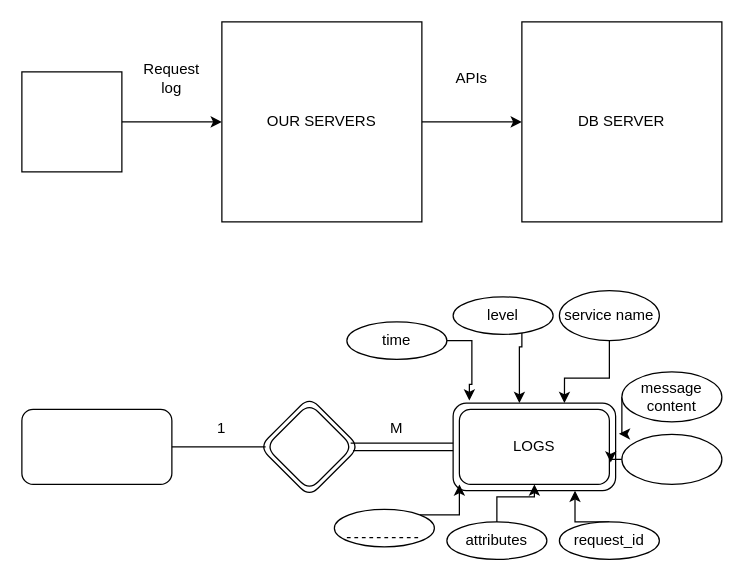
This 744x581 diagram has some shape labels left out. The centre of each missing label's shape, as x and y in pixels:
"CLIENT" belongs at point (71, 121).
"expire date" belongs at point (671, 458).
"user_id" belongs at point (383, 527).
"USERS" belongs at point (96, 446).
